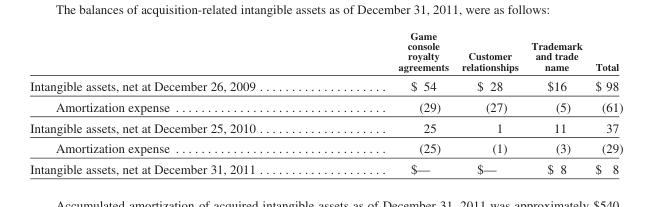table: (29, 28, 622, 175)
table column: (29, 28, 326, 175), (326, 28, 454, 175), (454, 28, 524, 175), (524, 28, 588, 175), (588, 28, 622, 175)
table column header: (29, 28, 622, 75)
table row: (29, 28, 622, 75), (29, 75, 622, 96), (29, 116, 622, 137), (29, 137, 622, 158), (29, 96, 622, 116), (29, 158, 622, 175)
